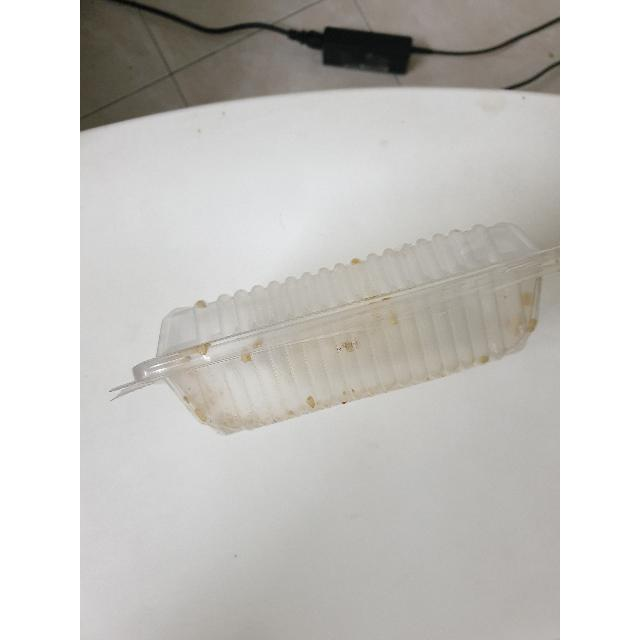Recipiente plastico: (111, 224, 550, 432)
